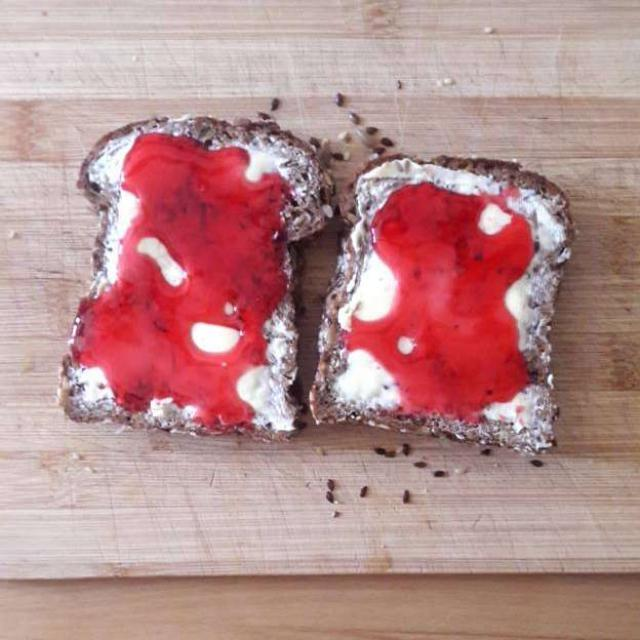butter: (95, 146, 575, 421)
jam: (87, 133, 542, 438)
